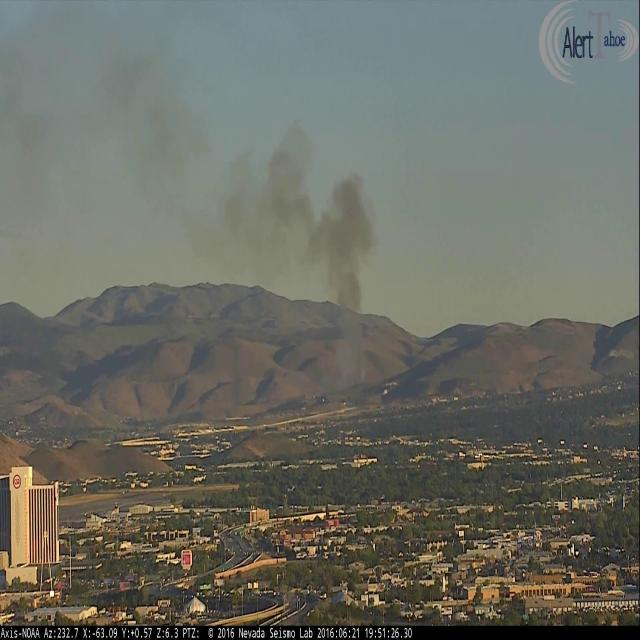smoke: (0, 0, 384, 314), (330, 312, 377, 398)
